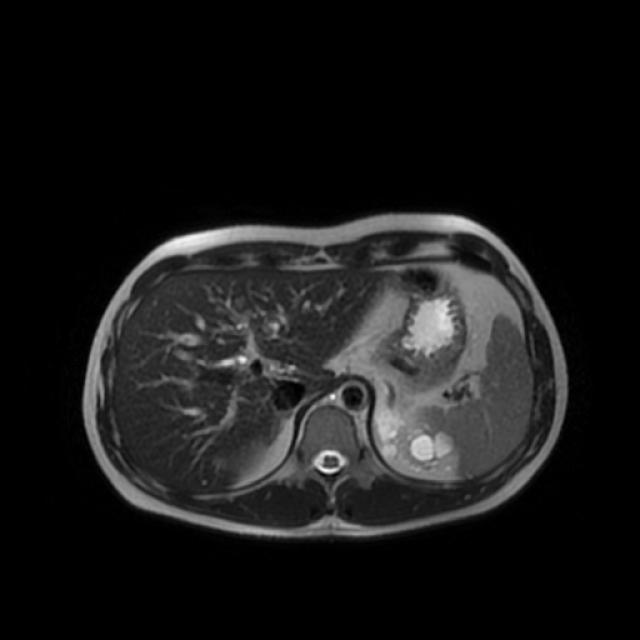sol: (377, 414, 462, 473)
